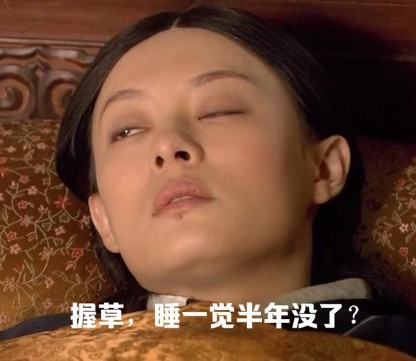闭眼: (188, 94, 250, 128), (101, 114, 153, 145)
